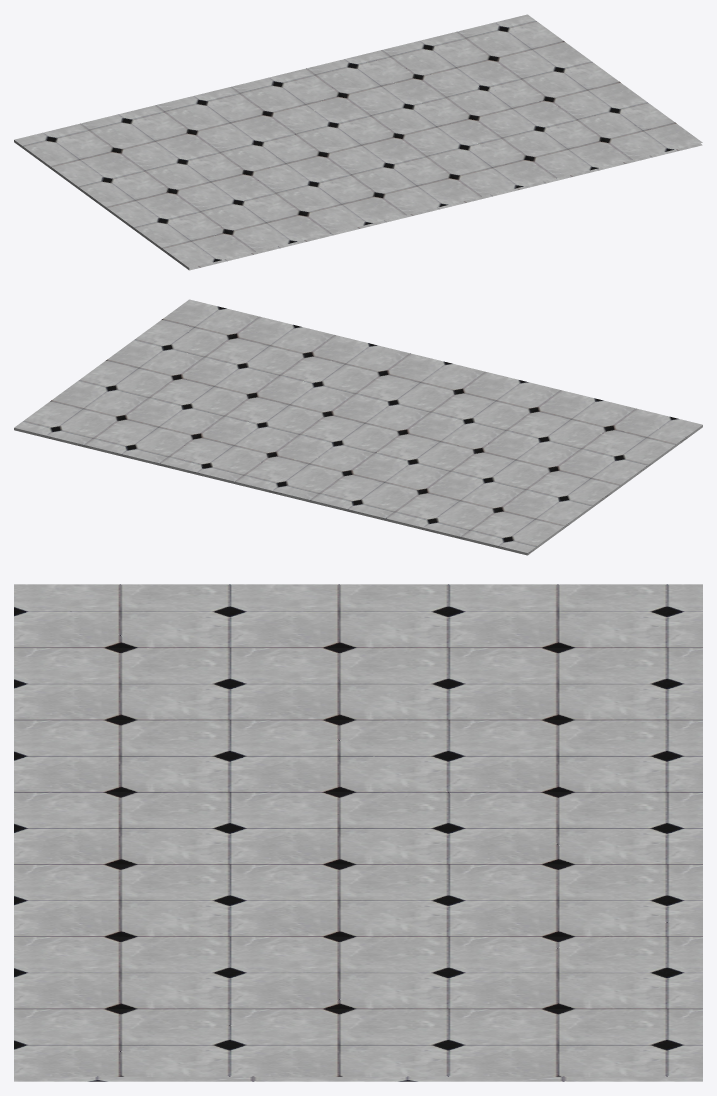
Rendered from bathroom tile.fbx.
The picture shows the model from 3 angles, top to bottom: view 1: azimuth 30°, elevation 25°; view 2: azimuth 150°, elevation 25°; view 3: azimuth 270°, elevation 25°; orthographic projection. The views are drawn at different scales.
Parts seen in each view (by area): view 1: pCube23; view 2: pCube23; view 3: pCube23.
Boxes of the visible parts, left/top/right/bottom form: pCube23: left=14, top=14, right=702, bottom=270; pCube23: left=14, top=299, right=702, bottom=555; pCube23: left=14, top=584, right=702, bottom=1081.
Bounding box in the file's own units: 99.11 × 0.4531 × 58.62.
Materials: 1 (1 with a texture image).
